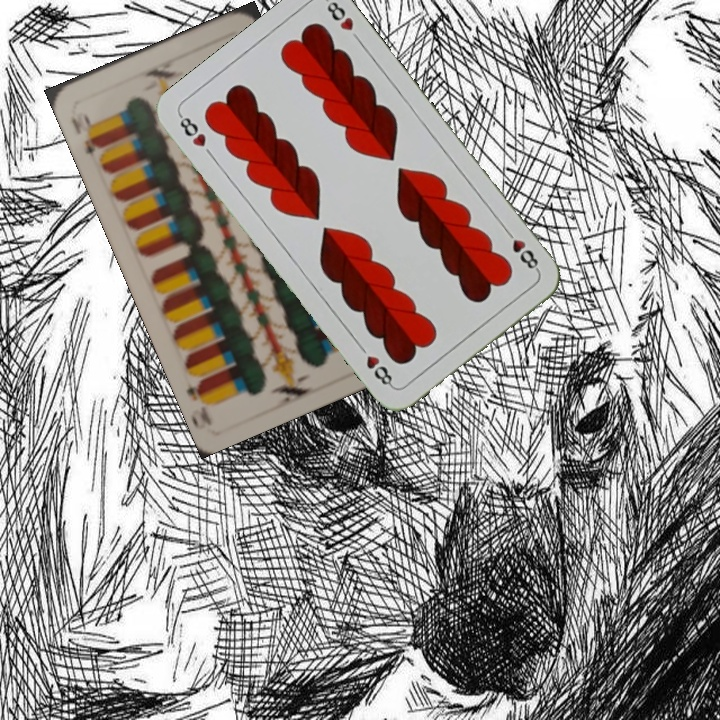E10: (67, 108, 105, 160)
H8: (500, 224, 542, 275), (175, 111, 209, 150)
